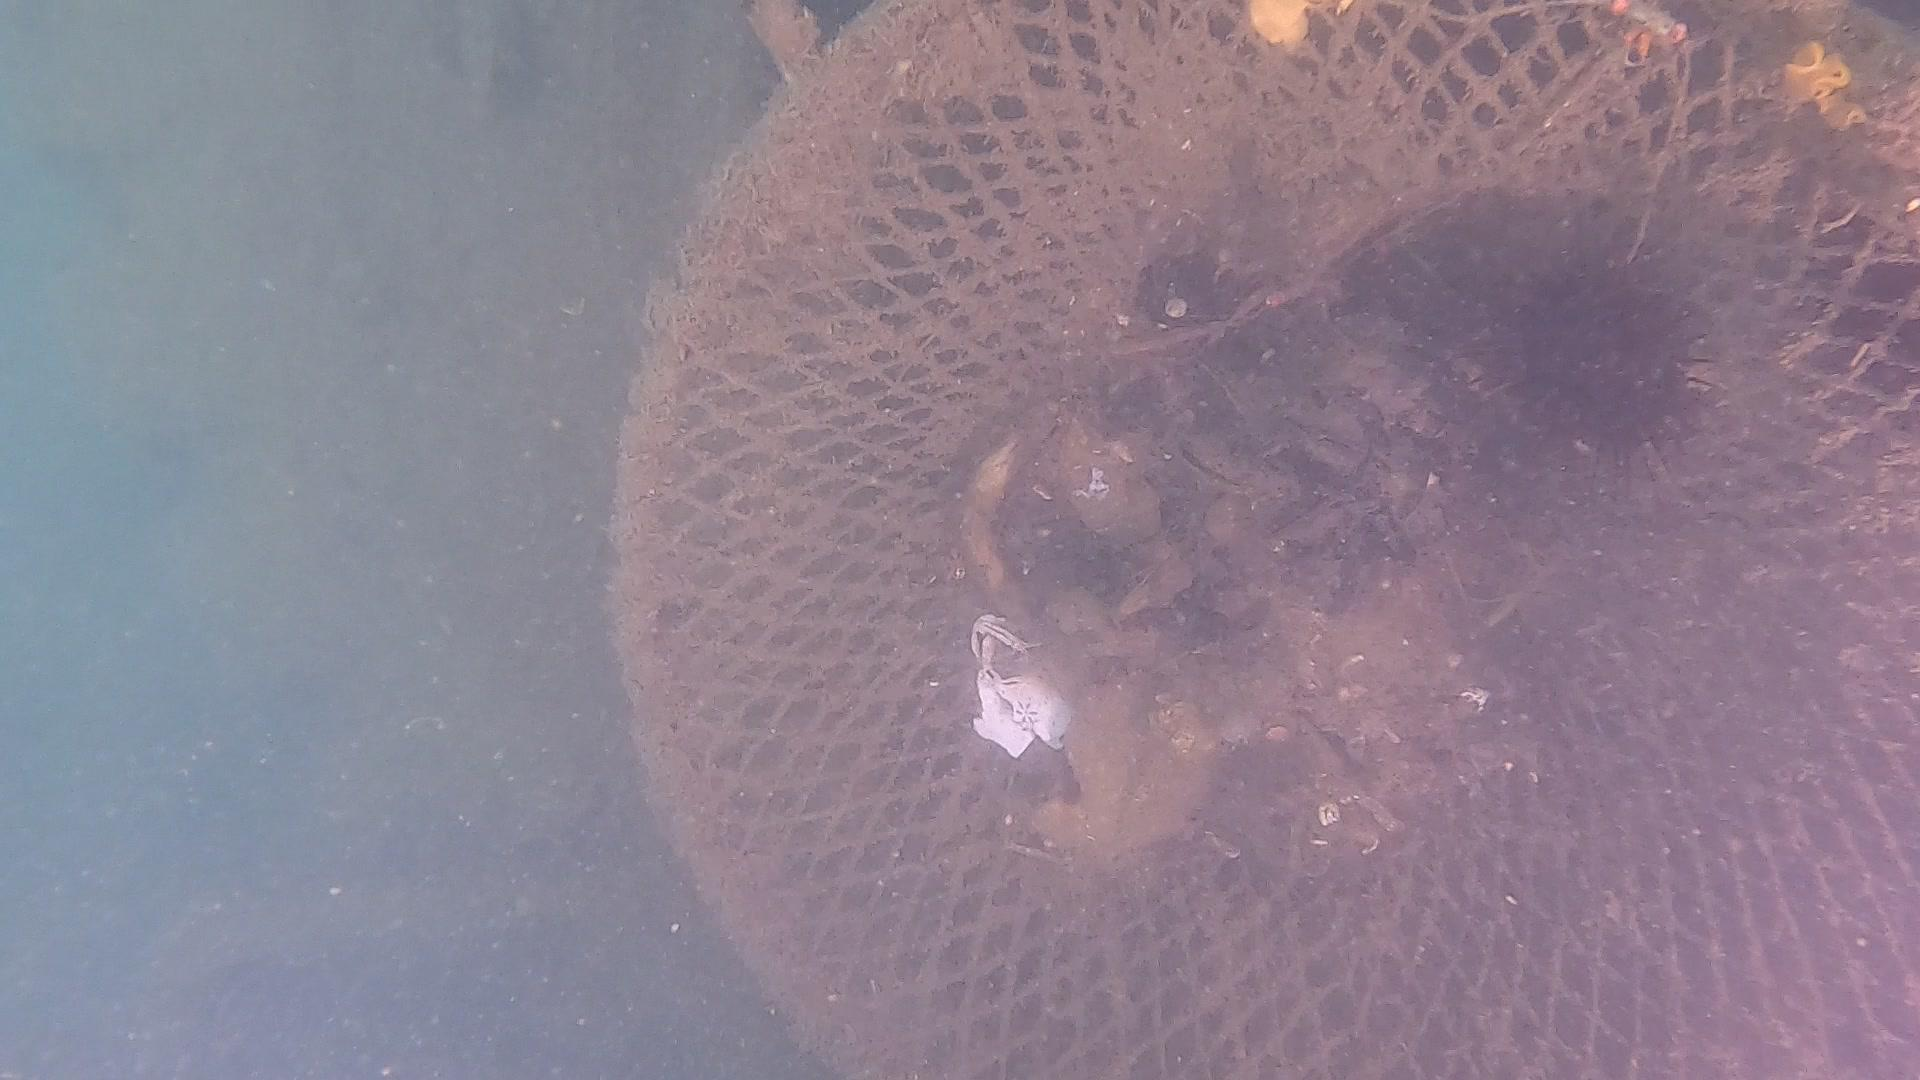circular fish trap: (604, 0, 1920, 1080)
